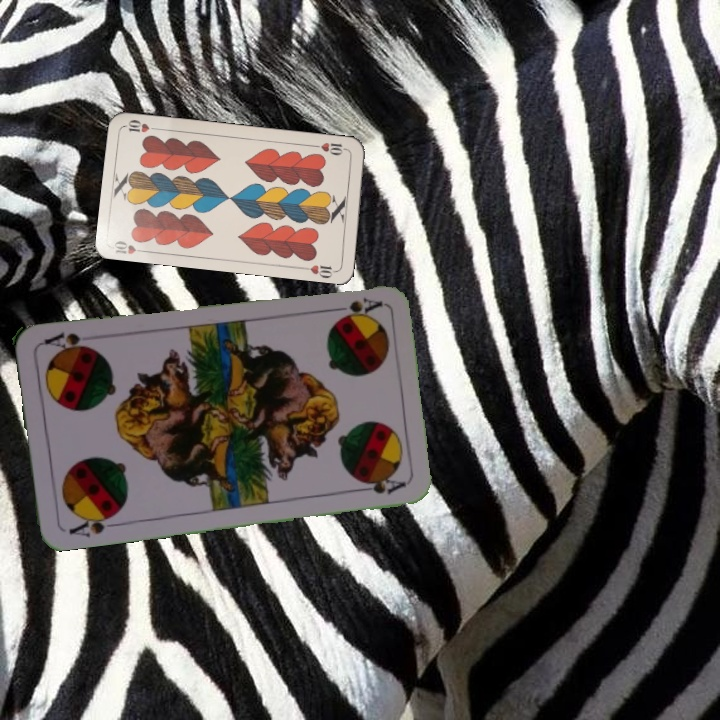H10: (110, 236, 150, 257), (310, 139, 351, 158)
SA: (64, 510, 119, 539), (325, 293, 384, 320)
